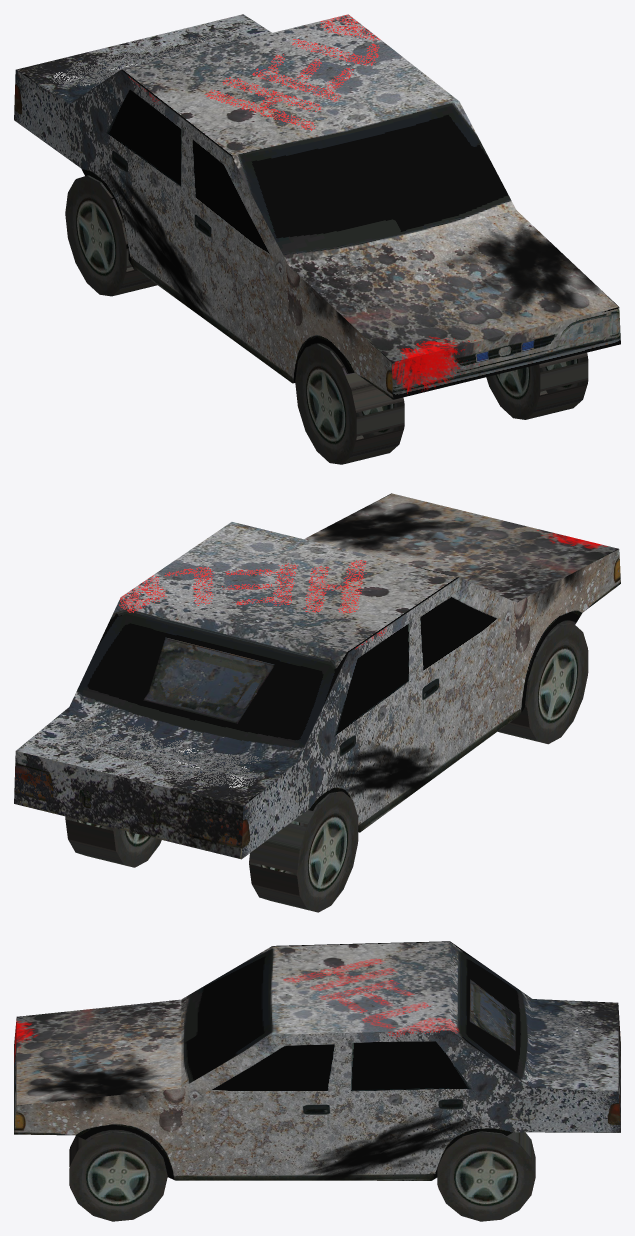
The model's file is car1.fbx.
3 views of the same model, one above another, from view 1: azimuth 30°, elevation 25°; view 2: azimuth 150°, elevation 25°; view 3: azimuth 270°, elevation 25° (orthographic). The views are drawn at different scales.
Visible parts, largest first — view 1: body, wheel2, wheel2.001, wheel1; view 2: body, wheel2.001, wheel2, wheel1.001; view 3: body, wheel1.001, wheel1.
Part boxes in pixels (x1,y1,x2,y2): body: (14, 14, 620, 399); wheel2: (295, 343, 404, 464); wheel2.001: (65, 175, 157, 296); wheel1: (486, 352, 588, 419); body: (14, 493, 620, 859); wheel2.001: (249, 791, 358, 912); wheel2: (498, 623, 588, 744); wheel1.001: (65, 816, 161, 867); body: (14, 941, 620, 1180); wheel1.001: (437, 1131, 535, 1221); wheel1: (69, 1131, 167, 1221).
Size of the model in its own units: 184 by 181 by 522.
